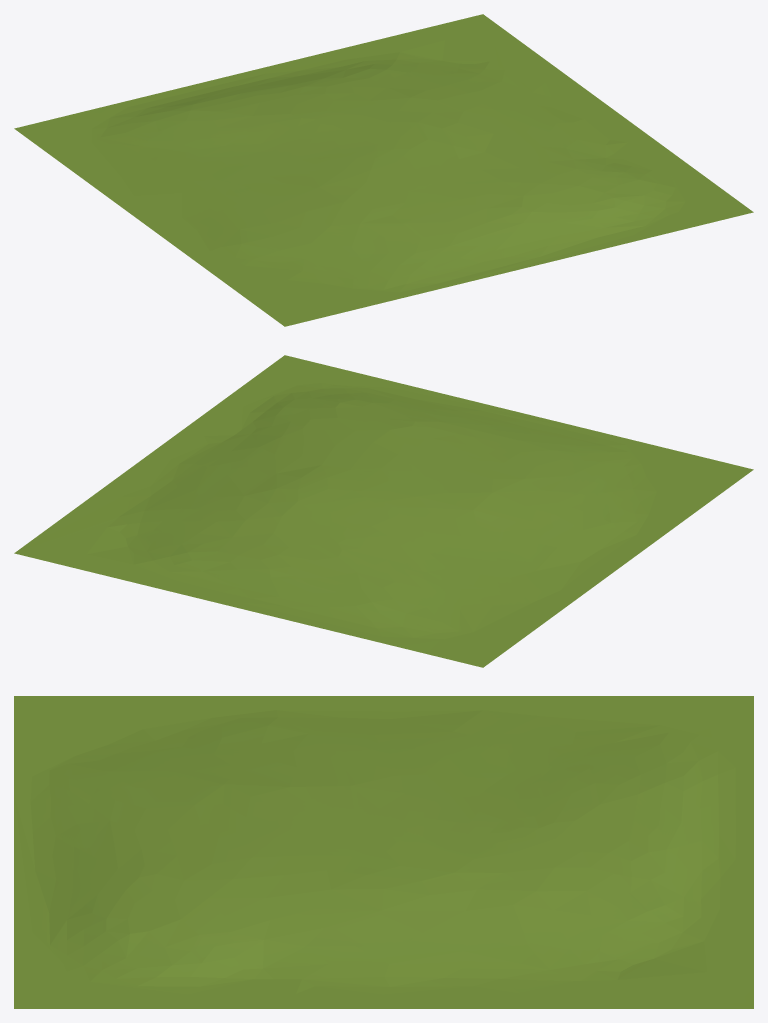
Rendered from Mesh_Landscape_Terrain_06.FBX.
3 renders of one model, top to bottom at view 1: azimuth 30°, elevation 25°; view 2: azimuth 150°, elevation 25°; view 3: azimuth 270°, elevation 25°, orthographic. The views are drawn at different scales.
Parts seen in each view (by area): view 1: Mesh_Landscape_Terrain_06; view 2: Mesh_Landscape_Terrain_06; view 3: Mesh_Landscape_Terrain_06.
Boxes of the visible parts, x1,y1,x2,y2 form: Mesh_Landscape_Terrain_06: (14, 14, 753, 326); Mesh_Landscape_Terrain_06: (14, 355, 753, 667); Mesh_Landscape_Terrain_06: (14, 696, 753, 1008).
Bounding box in the file's own units: 12800 × 12800 × 406.
